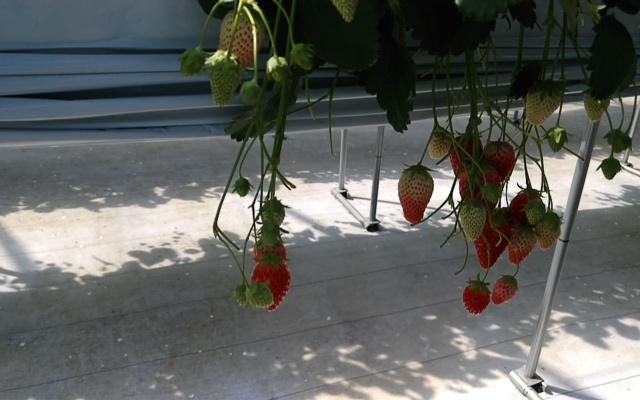GreenStrawberry: (216, 1, 265, 73), (396, 163, 435, 227), (204, 52, 244, 108), (521, 80, 562, 126), (506, 226, 538, 265), (458, 200, 487, 243), (532, 210, 563, 250), (582, 85, 612, 124), (176, 47, 206, 78), (427, 129, 454, 161), (260, 198, 286, 230), (245, 283, 275, 309), (288, 43, 315, 71), (606, 126, 633, 154), (545, 125, 569, 154), (265, 55, 288, 83), (524, 201, 546, 228), (257, 223, 279, 247), (600, 157, 621, 182), (234, 284, 250, 309), (233, 177, 252, 198)
MatureStrawberry: (455, 162, 502, 222), (468, 209, 512, 271), (248, 254, 292, 313), (446, 132, 484, 186), (506, 189, 543, 244), (480, 140, 518, 191), (250, 238, 288, 271), (460, 280, 492, 316), (491, 273, 518, 307)
